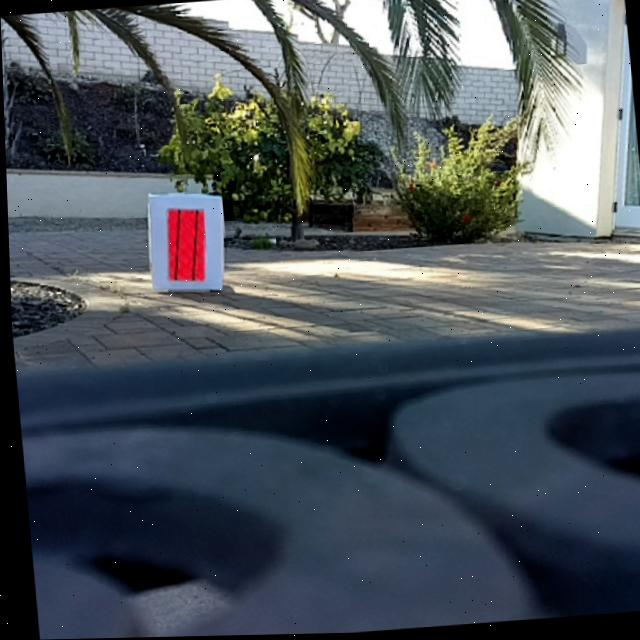led: (159, 206, 209, 286)
